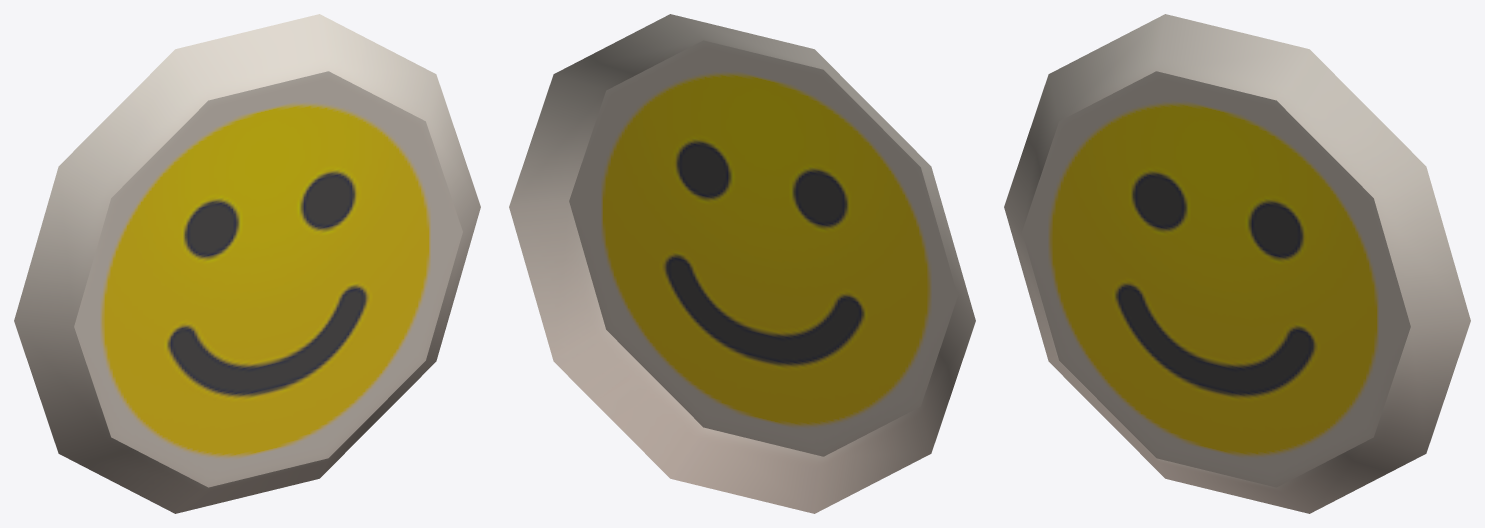
File: smile_sticker_01.fbx
3 views of the same model, side by side, from view 1: azimuth 30°, elevation 25°; view 2: azimuth 150°, elevation 25°; view 3: azimuth 330°, elevation 25° (orthographic).
Visible parts, largest first — view 1: smile_sticker_01; view 2: smile_sticker_01; view 3: smile_sticker_01.
Boxes of the visible parts, left/top/right/bottom form: smile_sticker_01: left=14, top=14, right=480, bottom=513; smile_sticker_01: left=509, top=14, right=975, bottom=513; smile_sticker_01: left=1004, top=14, right=1470, bottom=513.
Bounding box in the file's own units: 20.82 × 19.8 × 1.62.
